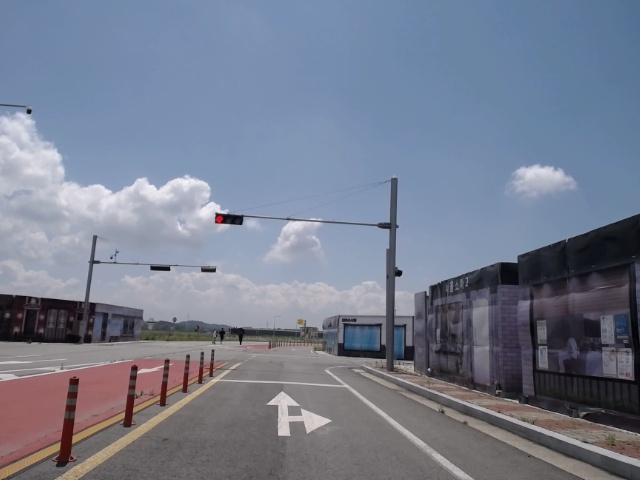red_3: (211, 212, 246, 226)
